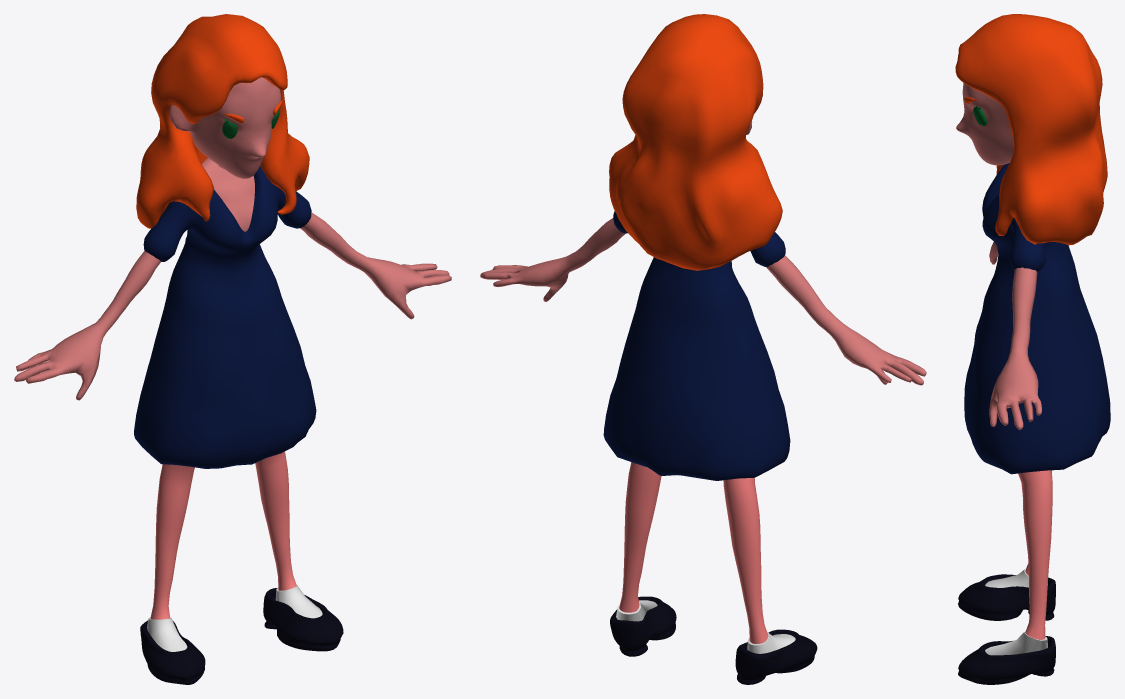
3 renders of one model, left to right at view 1: azimuth 30°, elevation 25°; view 2: azimuth 150°, elevation 25°; view 3: azimuth 270°, elevation 25°, orthographic.
Visible parts, largest first — view 1: VESTIDO_AIDA_LOW, PELO_AIDA_LOW, BRAZOS-CUELLO_AIDA_LOW, PIERNAS_AIDA_LOW, CABEZA_AIDA_LOW, ZAPATOS_AIDA_LOW002, TORSO_AIDA_LOW, CALCETINES_AIDA_LOW; view 2: PELO_AIDA_LOW, VESTIDO_AIDA_LOW, PIERNAS_AIDA_LOW, BRAZOS-CUELLO_AIDA_LOW, ZAPATOS_AIDA_LOW002, CALCETINES_AIDA_LOW; view 3: PELO_AIDA_LOW, VESTIDO_AIDA_LOW, ZAPATOS_AIDA_LOW002, BRAZOS-CUELLO_AIDA_LOW, PIERNAS_AIDA_LOW, CABEZA_AIDA_LOW, CALCETINES_AIDA_LOW.
Boxes of the visible parts, bbox=[...] form: VESTIDO_AIDA_LOW: bbox=[134, 166, 316, 468]; PELO_AIDA_LOW: bbox=[136, 14, 309, 228]; BRAZOS-CUELLO_AIDA_LOW: bbox=[14, 165, 451, 400]; PIERNAS_AIDA_LOW: bbox=[150, 451, 296, 619]; CABEZA_AIDA_LOW: bbox=[169, 77, 280, 178]; ZAPATOS_AIDA_LOW002: bbox=[140, 588, 343, 684]; TORSO_AIDA_LOW: bbox=[202, 158, 254, 231]; CALCETINES_AIDA_LOW: bbox=[147, 585, 322, 651]; PELO_AIDA_LOW: bbox=[609, 14, 782, 270]; VESTIDO_AIDA_LOW: bbox=[603, 211, 790, 480]; PIERNAS_AIDA_LOW: bbox=[619, 462, 768, 643]; BRAZOS-CUELLO_AIDA_LOW: bbox=[480, 218, 926, 385]; ZAPATOS_AIDA_LOW002: bbox=[610, 596, 817, 684]; CALCETINES_AIDA_LOW: bbox=[616, 600, 795, 653]; PELO_AIDA_LOW: bbox=[955, 14, 1107, 245]; VESTIDO_AIDA_LOW: bbox=[964, 163, 1110, 474]; ZAPATOS_AIDA_LOW002: bbox=[958, 574, 1055, 684]; BRAZOS-CUELLO_AIDA_LOW: bbox=[989, 241, 1041, 429]; PIERNAS_AIDA_LOW: bbox=[1018, 470, 1052, 639]; CABEZA_AIDA_LOW: bbox=[956, 83, 1013, 165]; CALCETINES_AIDA_LOW: bbox=[985, 568, 1047, 655].
Size of the model in its own units: 1.62 by 2.23 by 0.4982.
